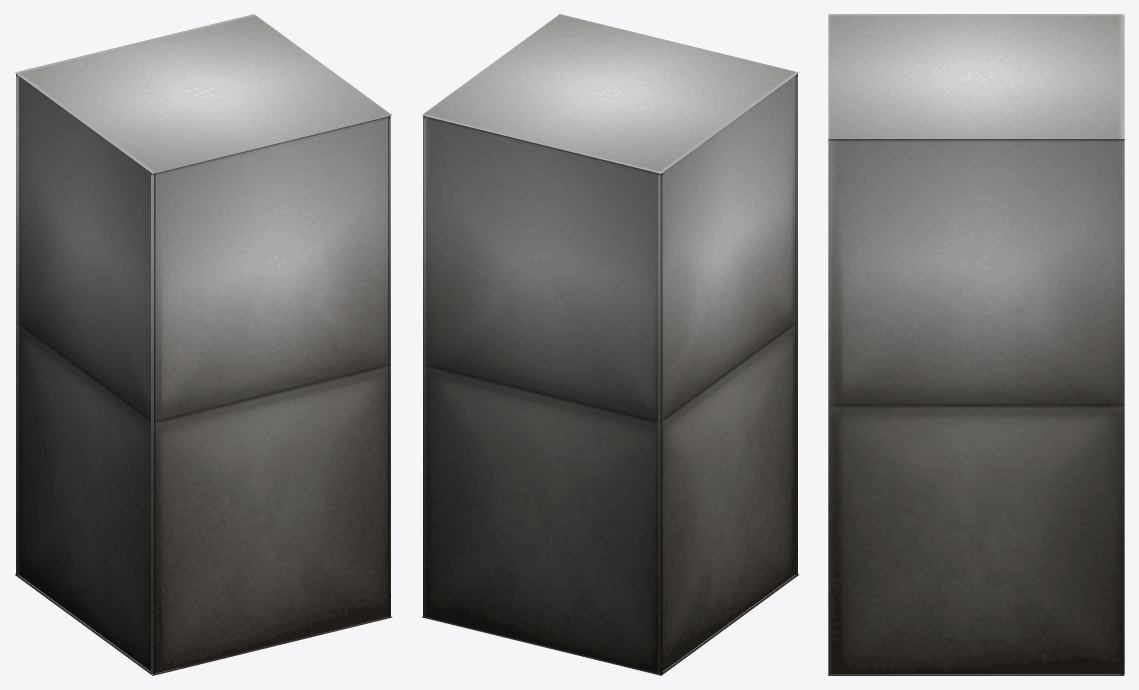
Rendered from metal_32.obj.
3 views of the same model, side by side, from view 1: azimuth 30°, elevation 25°; view 2: azimuth 150°, elevation 25°; view 3: azimuth 270°, elevation 25° (orthographic). The views are drawn at different scales.
Visible parts, largest first — view 1: 32x32_metal_(2).mdl/32x32_metal_(2).smd; view 2: 32x32_metal_(2).mdl/32x32_metal_(2).smd; view 3: 32x32_metal_(2).mdl/32x32_metal_(2).smd.
Part boxes in pixels (x1,y1,x2,y2): 32x32_metal_(2).mdl/32x32_metal_(2).smd: [14, 14, 392, 675]; 32x32_metal_(2).mdl/32x32_metal_(2).smd: [421, 14, 799, 675]; 32x32_metal_(2).mdl/32x32_metal_(2).smd: [828, 14, 1124, 675].
Bounding box in the file's own units: 0.5 × 1 × 0.5.
